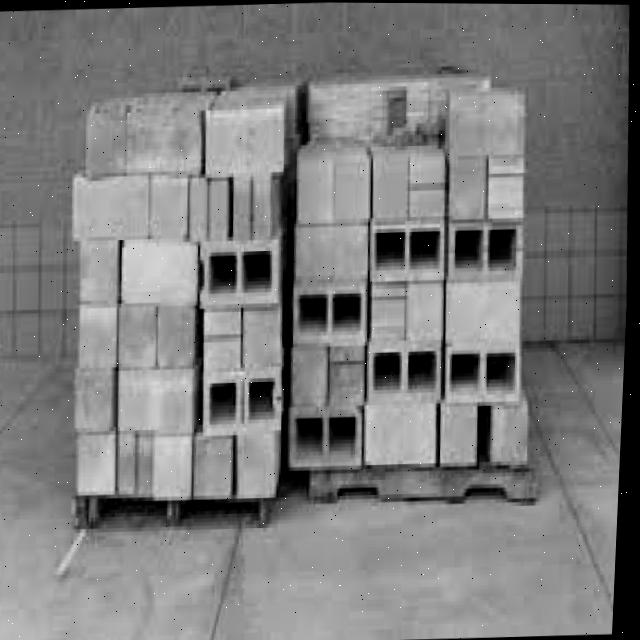bricks: (71, 73, 525, 498)
